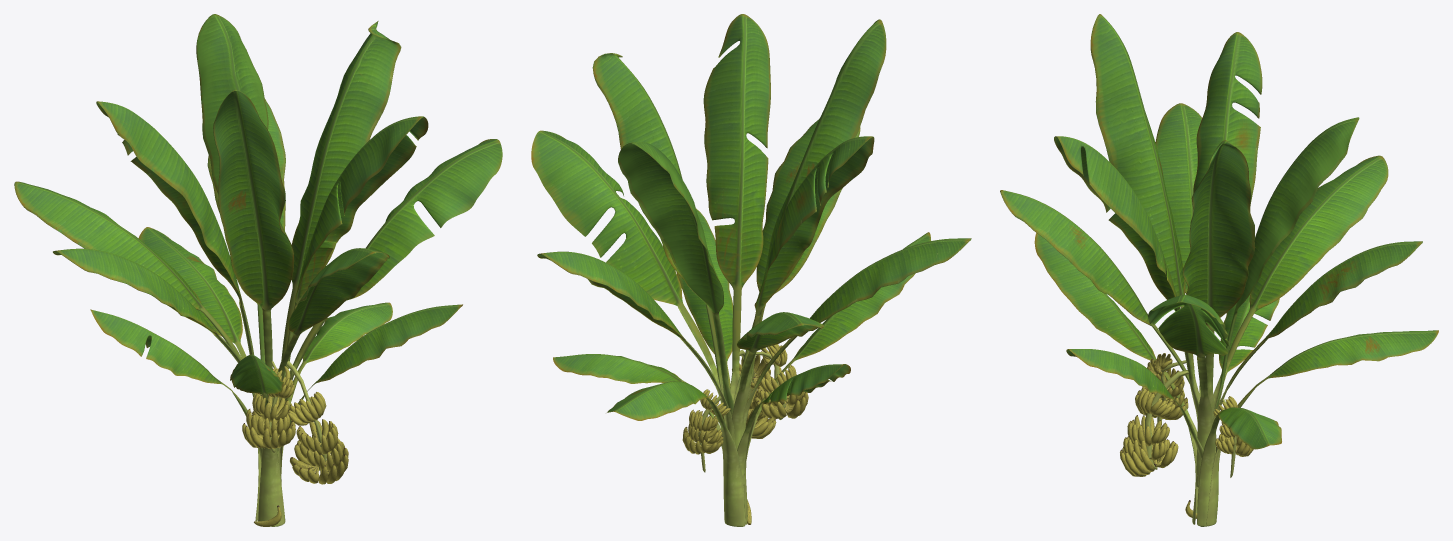
The model's file is banana.glb.
The picture shows the model from 3 angles, left to right: view 1: azimuth 30°, elevation 25°; view 2: azimuth 150°, elevation 25°; view 3: azimuth 270°, elevation 25°; orthographic projection. The views are drawn at different scales.
Visible parts, largest first — view 1: Banana tree, Trees; view 2: Banana tree, Trees; view 3: Banana tree, Trees.
Part boxes in pixels (left/top/right/bottom): Banana tree: left=14, top=14, right=502, bottom=526; Trees: left=242, top=361, right=348, bottom=484; Banana tree: left=531, top=14, right=971, bottom=526; Trees: left=682, top=344, right=808, bottom=472; Banana tree: left=1000, top=14, right=1438, bottom=526; Trees: left=1120, top=353, right=1253, bottom=477.
Bounding box in the file's own units: 24.28 × 26.16 × 22.22.
Materials: 2 (2 with a texture image).
